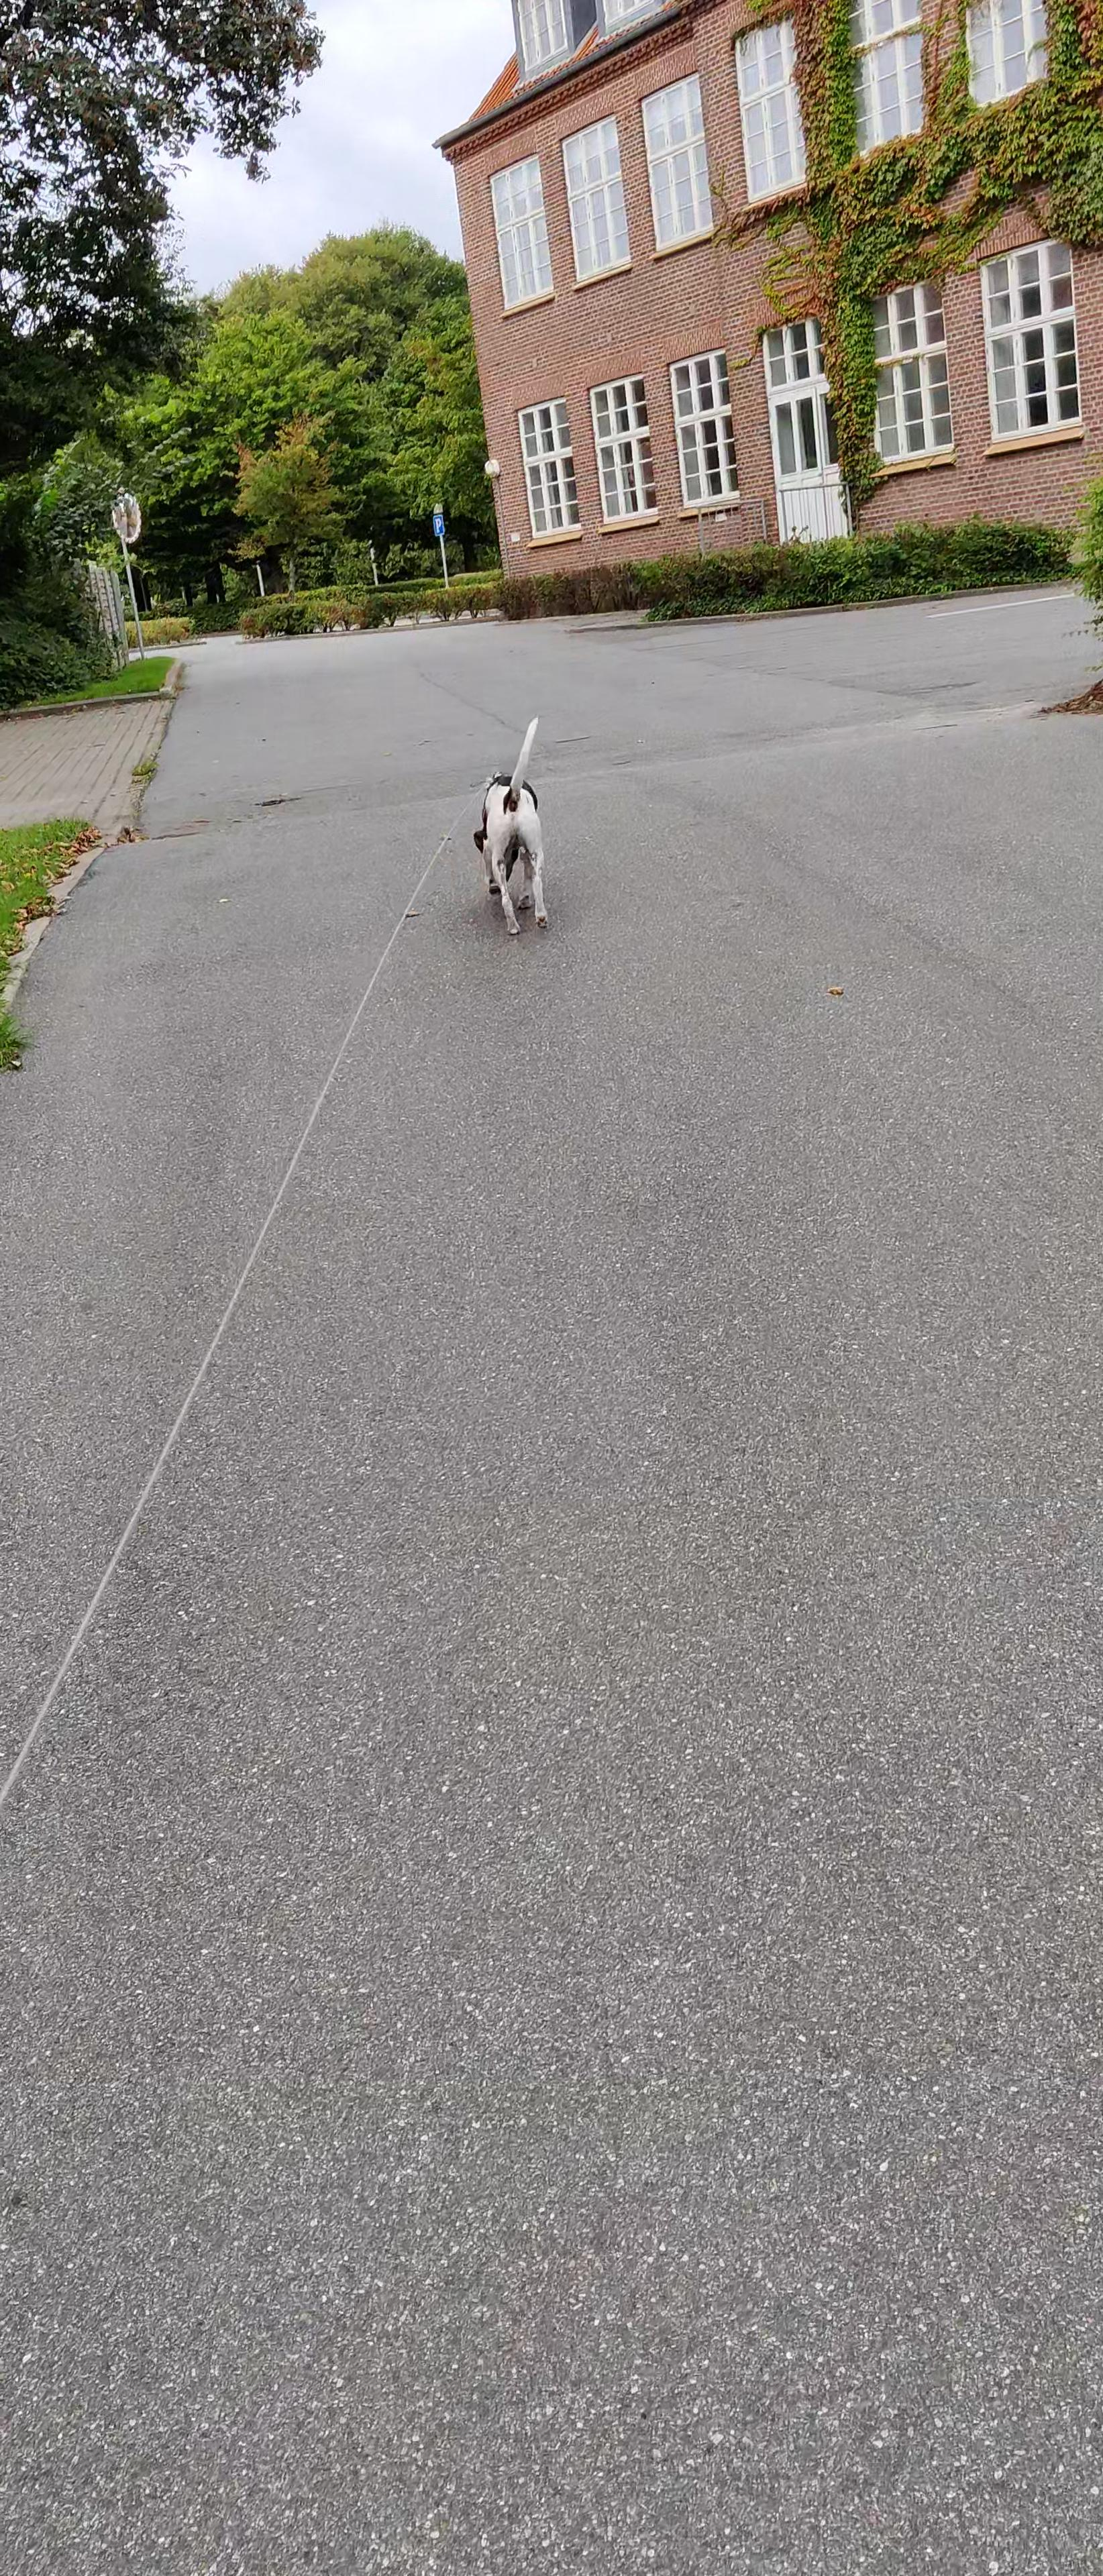Dog: (468, 710, 557, 936)
